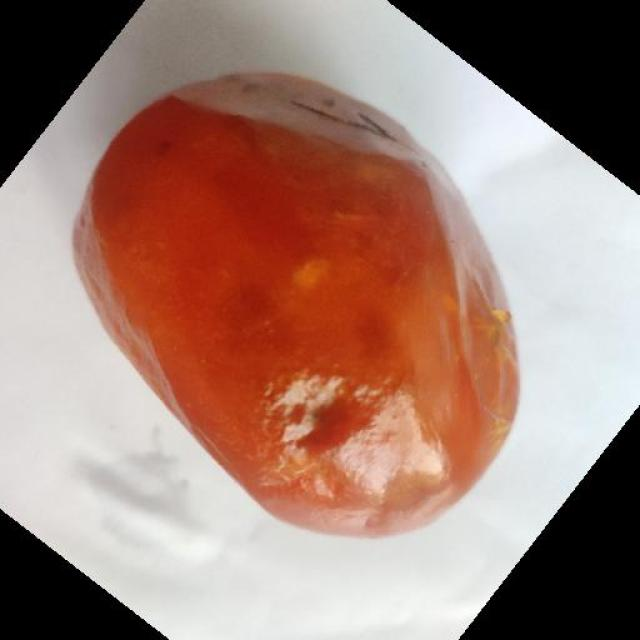Stale_tomato: (74, 91, 535, 553)
